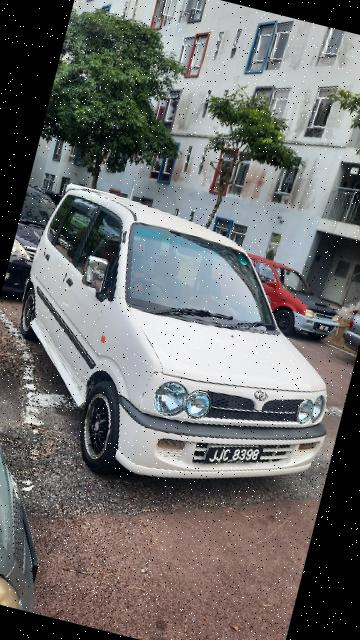License_Plate: (204, 431, 267, 481)
car: (1, 173, 360, 527)
